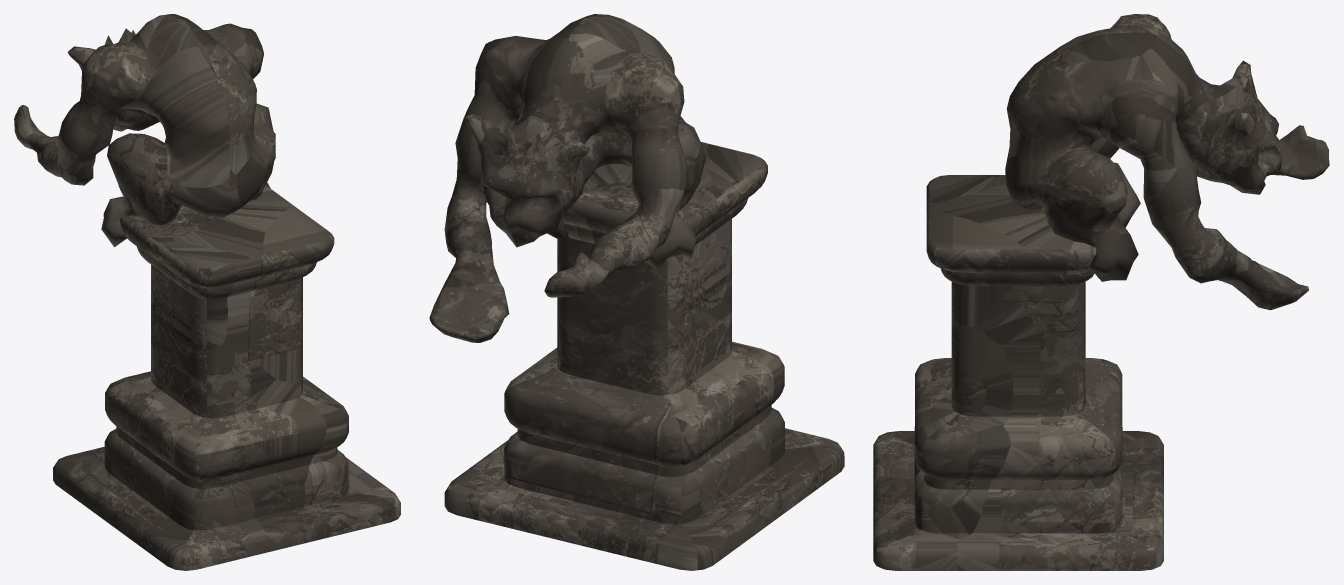
The model's file is SM_PRP_GargoyleStand_LeftArm.fbx.
3 views of the same model, side by side, from view 1: azimuth 30°, elevation 25°; view 2: azimuth 150°, elevation 25°; view 3: azimuth 270°, elevation 25° (orthographic). The views are drawn at different scales.
Visible parts, largest first — view 1: m_GargoyleBody_low; view 2: m_GargoyleBody_low; view 3: m_GargoyleBody_low.
Part boxes in pixels (<box>): m_GargoyleBody_low: <box>14,14,400,570</box>; m_GargoyleBody_low: <box>429,14,844,570</box>; m_GargoyleBody_low: <box>873,14,1329,570</box>.
Size of the model in its own units: 318 by 580 by 500.
